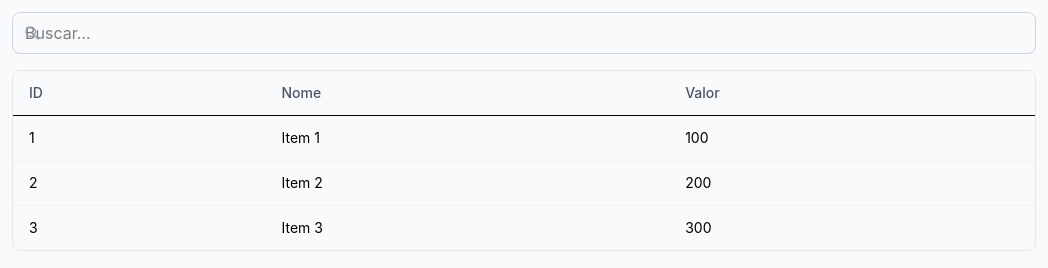
Test: DataTable › deve filtrar dados com busca
In the field with placeholder "Buscar...": (524, 33) [12, 12, 1036, 54], type "Item 2"
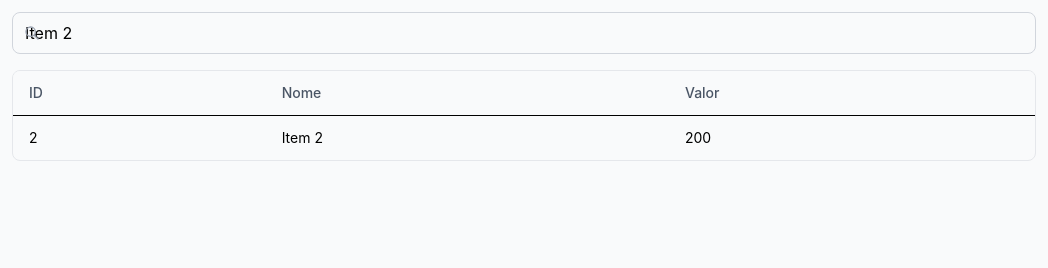
Check: the text "Item 1" is gone
Check: the text "Item 2" is shown, box [266, 116, 669, 160]
